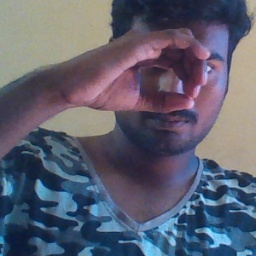O: (71, 24, 217, 121)
